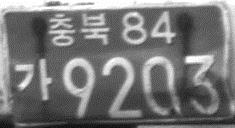0: (140, 55, 185, 117)
2: (102, 55, 142, 119)
3: (183, 53, 221, 115)
4: (149, 9, 177, 44)
8: (120, 10, 149, 46)
9: (61, 55, 96, 117)
가: (14, 58, 53, 102)
충북_O: (46, 12, 110, 46)
